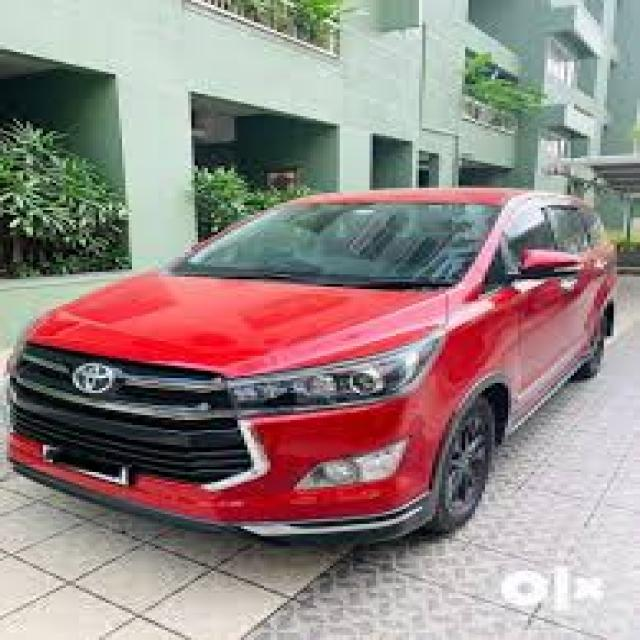light_vehicle: (8, 188, 620, 547)
